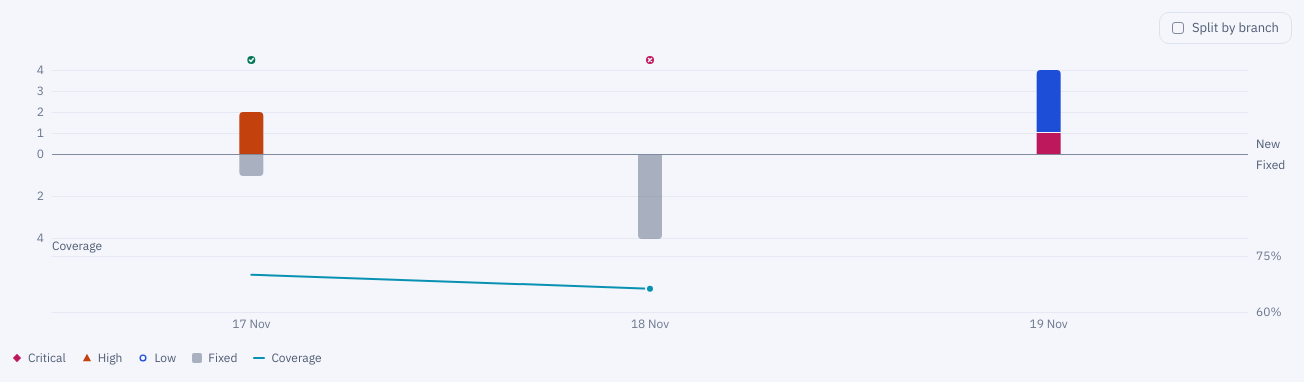
it: PipelineStrip › shows the detail card on hover with a crosshair, and accepts a custom card
Hover over the button named "Pipeline #900, 17 Nov 2026, 10:00, main, 2 new findings (2 h": point(251, 182) [52, 52, 451, 312]
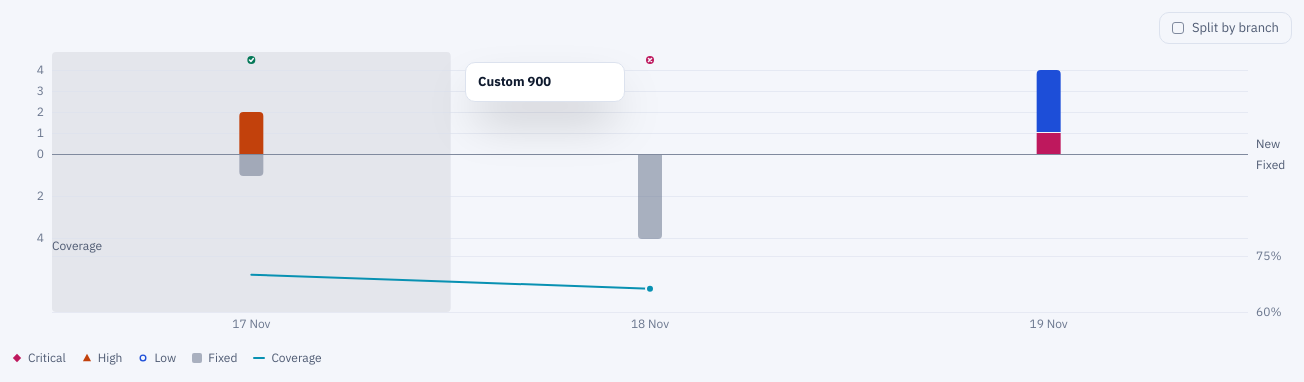
Expected: the element with test id "viz-tooltip" reads "Custom 900", [465, 62, 625, 102]
Move the pointer off the element named "Pipeline strip: pipelines"
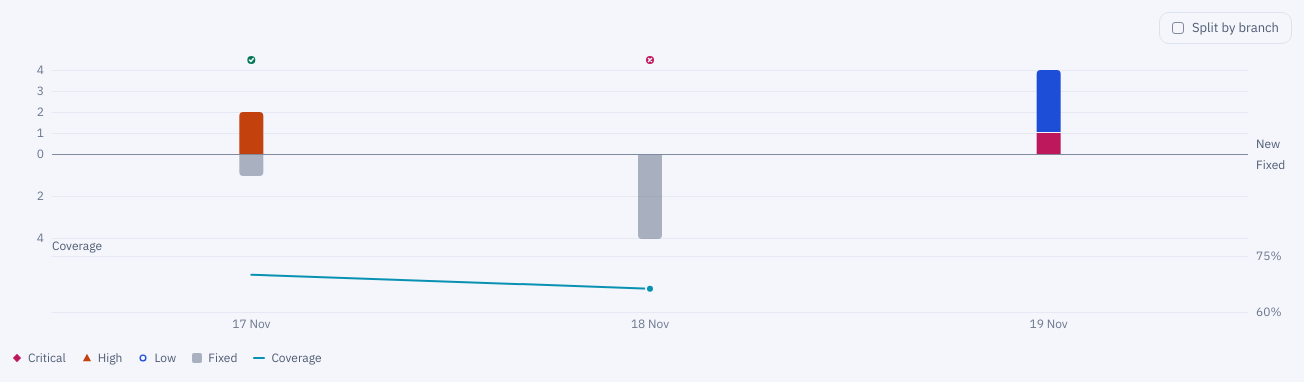
Expected: the element with test id "viz-tooltip" is gone
